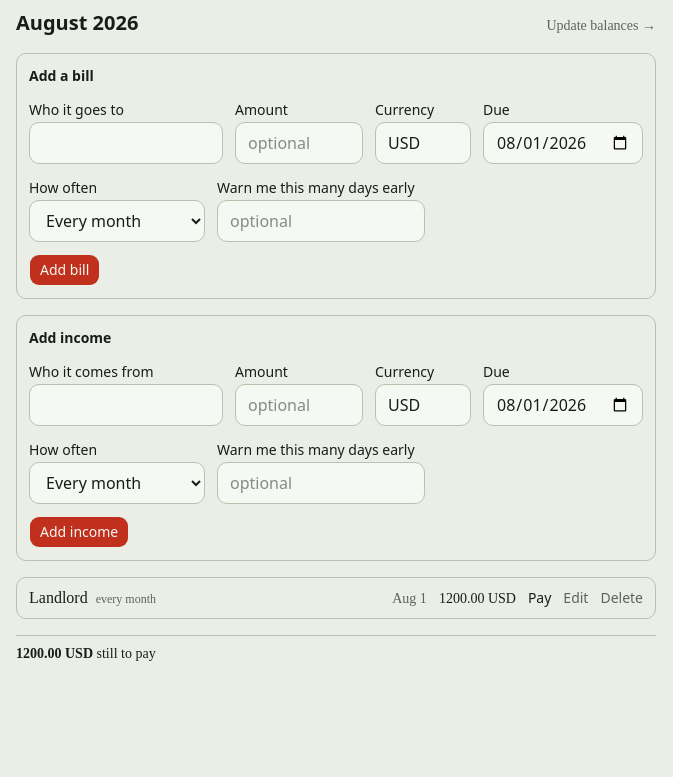
MoneyRoute, editing this bill or the arrangement › offers both acts for a repeating bill
Click the button with aria-label "Edit Landlord": (576, 598) [563,588,588,608]
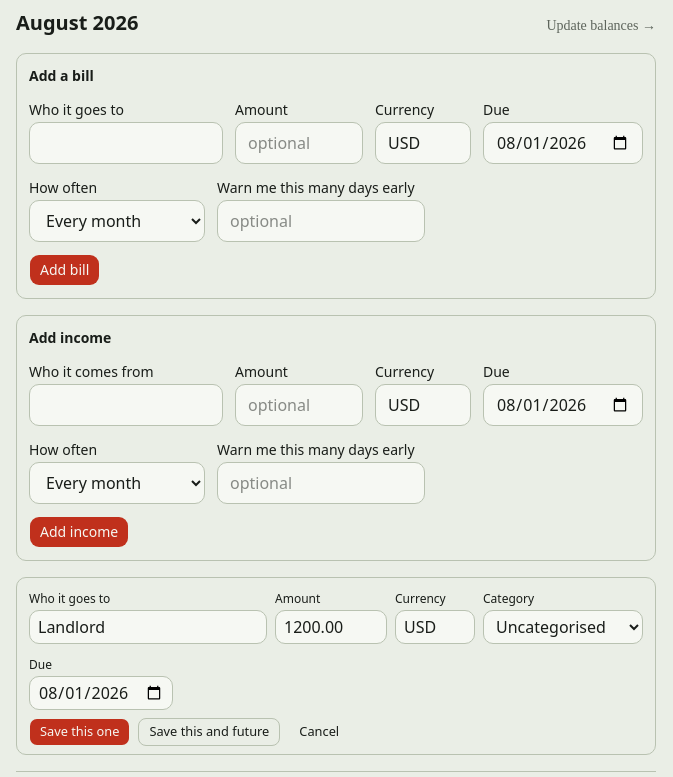
expect the button "Save this one" is shown: met, box [29,718,130,746]
expect the button "Save this and future" is shown: met, box [138,718,280,746]
